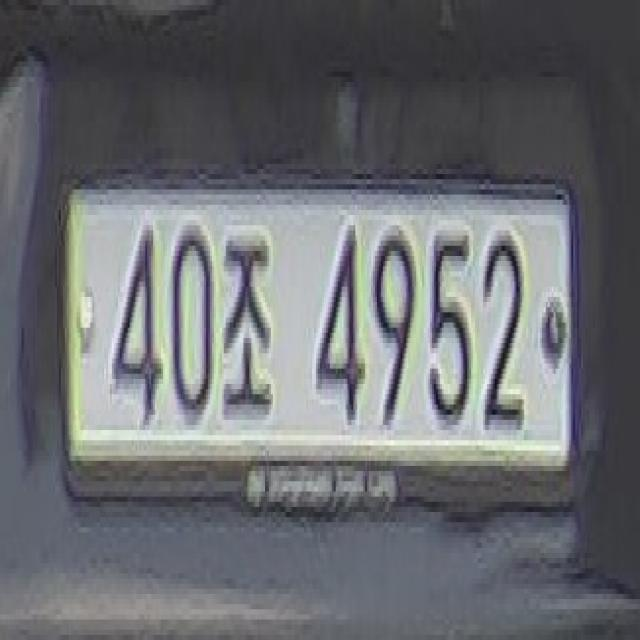0: (169, 215, 216, 430)
2: (479, 225, 530, 430)
4: (110, 210, 163, 425), (314, 210, 365, 425)
5: (424, 220, 473, 430)
9: (365, 220, 418, 430)
jo: (218, 230, 277, 420)
license_plate: (57, 169, 571, 471)
